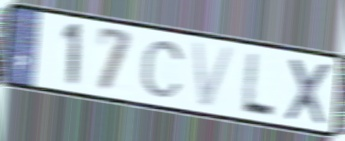1: (60, 20, 84, 89)
7: (94, 24, 136, 94)
C: (140, 38, 187, 100)
L: (239, 49, 277, 120)
V: (189, 38, 239, 112)
X: (283, 54, 334, 129)
